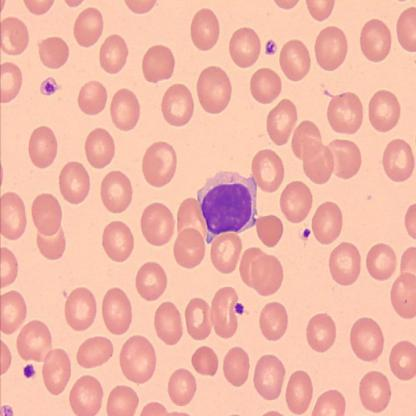Lymphocyte: (196, 170, 258, 244)
